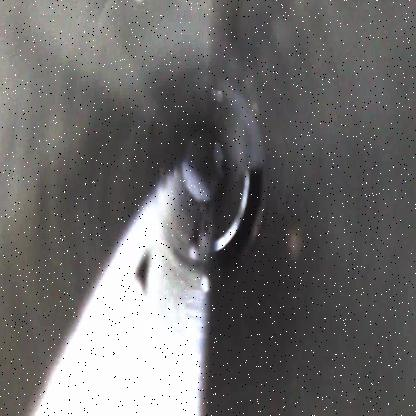Crack2: (211, 163, 263, 273)
